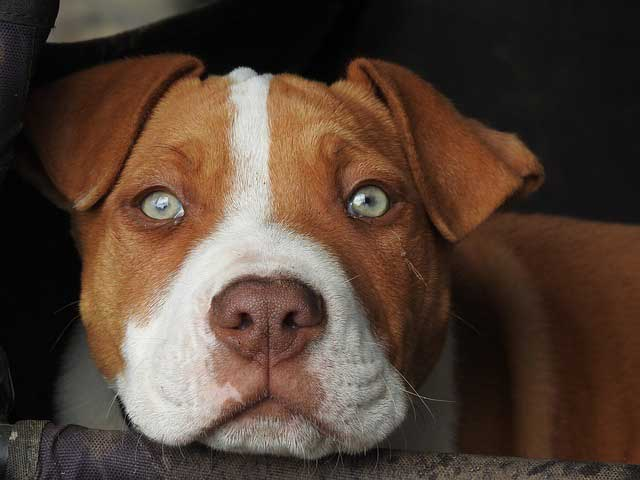Perro Pitbull: (25, 44, 580, 478)
